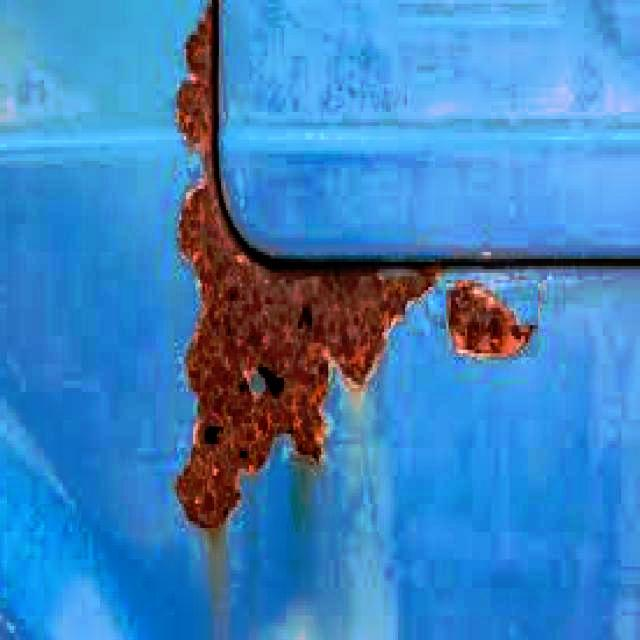Corrosion: (176, 1, 441, 532), (448, 281, 535, 356)
